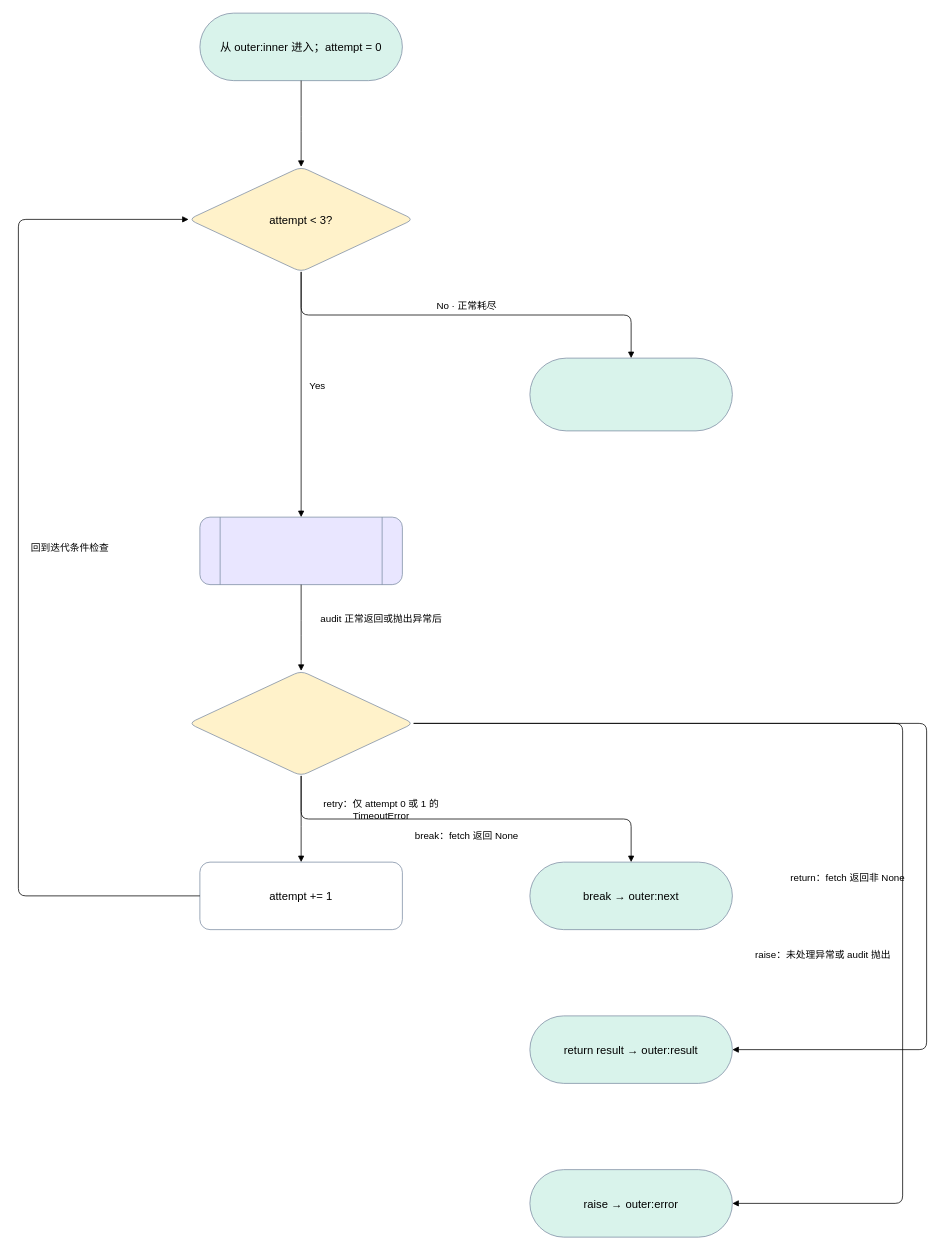
Some shapes in this 946 by 1250 pixel diagram are drawn without their labels. The shapes that lost their labels are listed below. From the top down, each one's box as (x1, y1, x2, y2) in pixels, then its label:
(529, 357, 732, 431): 内层正常耗尽 → outer:next 当前实现中第三次超时会 raise，故该出口不可达
(199, 516, 402, 585): 运行 try / except / finally 得到恢复转移或 audit 异常
(188, 670, 414, 776): finally 完成后的转移？
